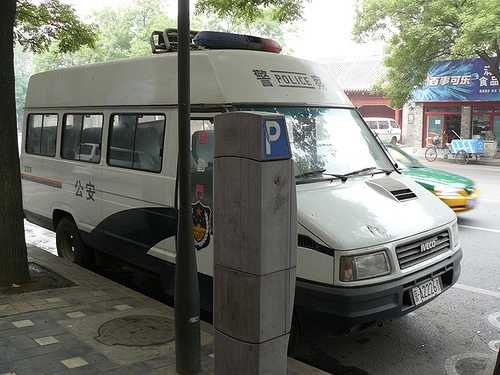Police Van: (20, 34, 466, 316)
